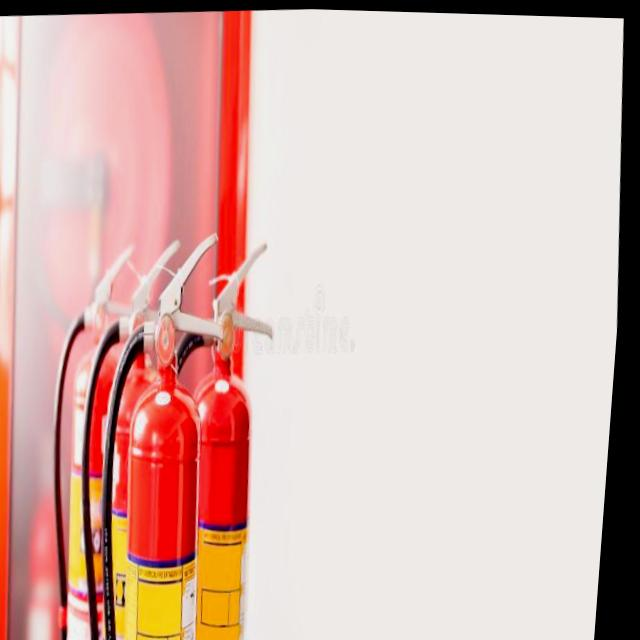FireExtinguisher: (83, 223, 254, 640), (142, 234, 301, 640), (36, 233, 171, 640)
